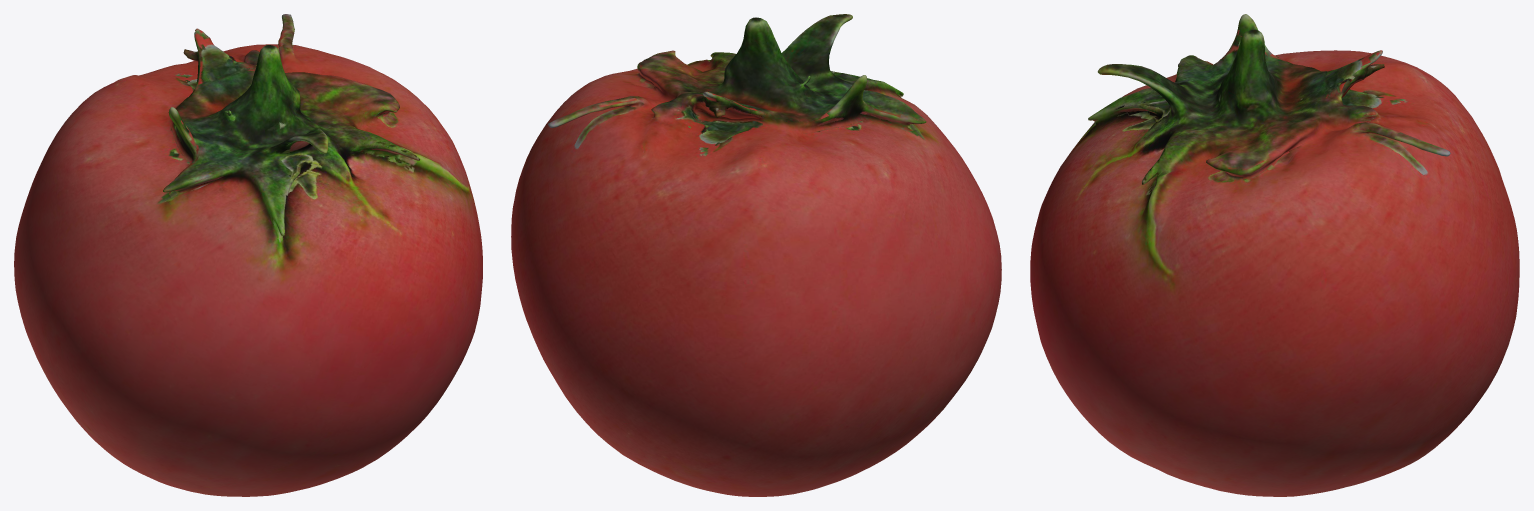
Rendered from Tomate.fbx.
3 renders of one model, left to right at view 1: azimuth 30°, elevation 25°; view 2: azimuth 150°, elevation 25°; view 3: azimuth 270°, elevation 25°, orthographic. The views are drawn at different scales.
Parts seen in each view (by area): view 1: mesh; view 2: mesh; view 3: mesh.
Boxes of the visible parts, x1,y1,x2,y2 form: mesh: (14,14,482,496); mesh: (511,14,1001,496); mesh: (1030,14,1519,496).
Bounding box in the file's own units: 97.51 × 99.89 × 96.43.
